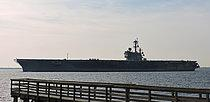MIL_Ship: (14, 36, 201, 72)
